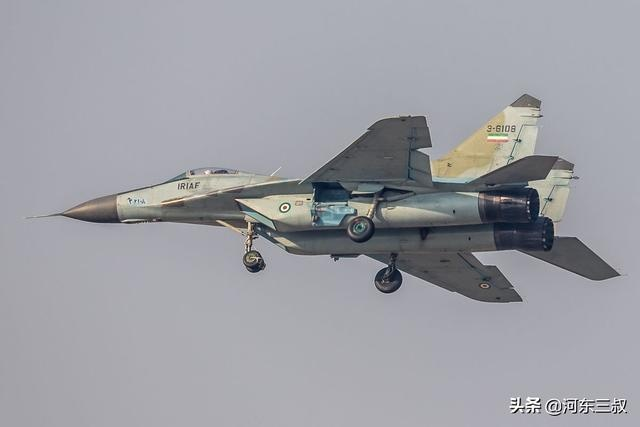airplane: (21, 92, 627, 302)
